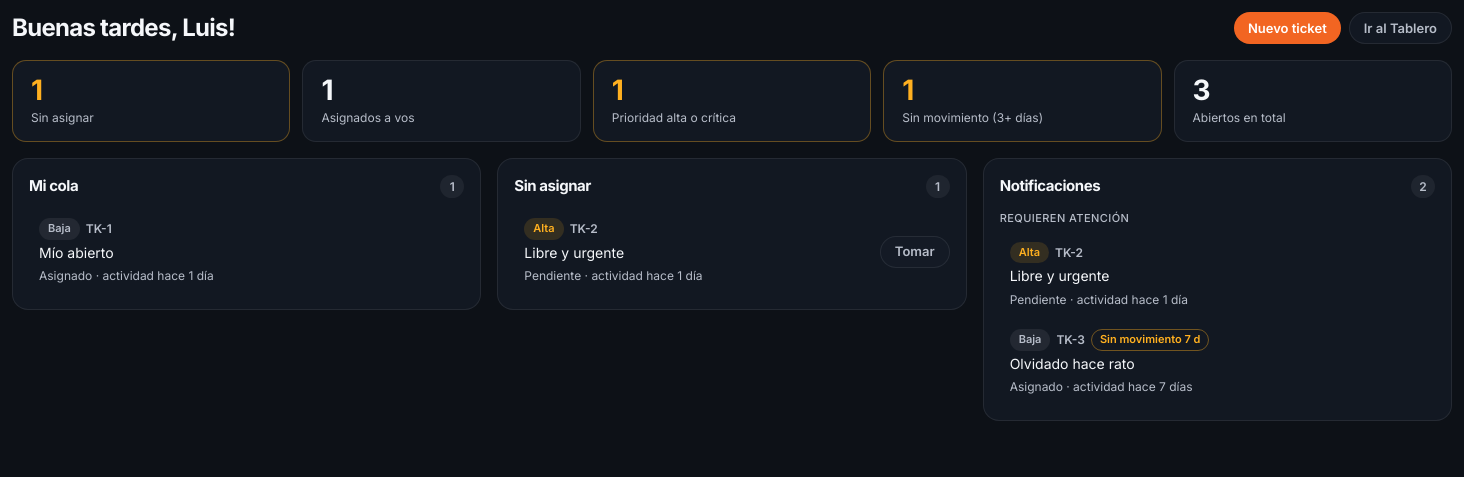
Test: Novedades › si no se puede tomar el ticket muestra el error
The width and height of the screenshot is (1464, 477).
Expected: the heading "Buenas tardes, Luis!" is shown, x1=12 y1=15 x2=235 y2=41
Click the button with aria-label "Tomar TK-2".
click(915, 252)  # box x1=880 y1=236 x2=950 y2=268
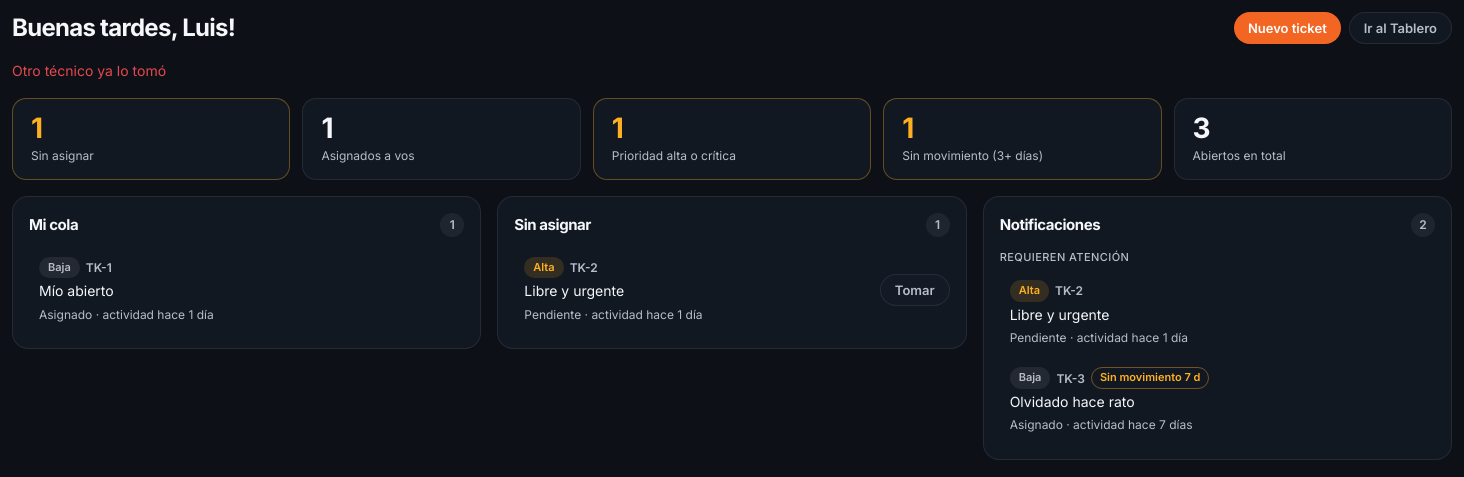
Expected: the text "Otro técnico ya lo tomó" is shown, x1=12 y1=62 x2=166 y2=79
